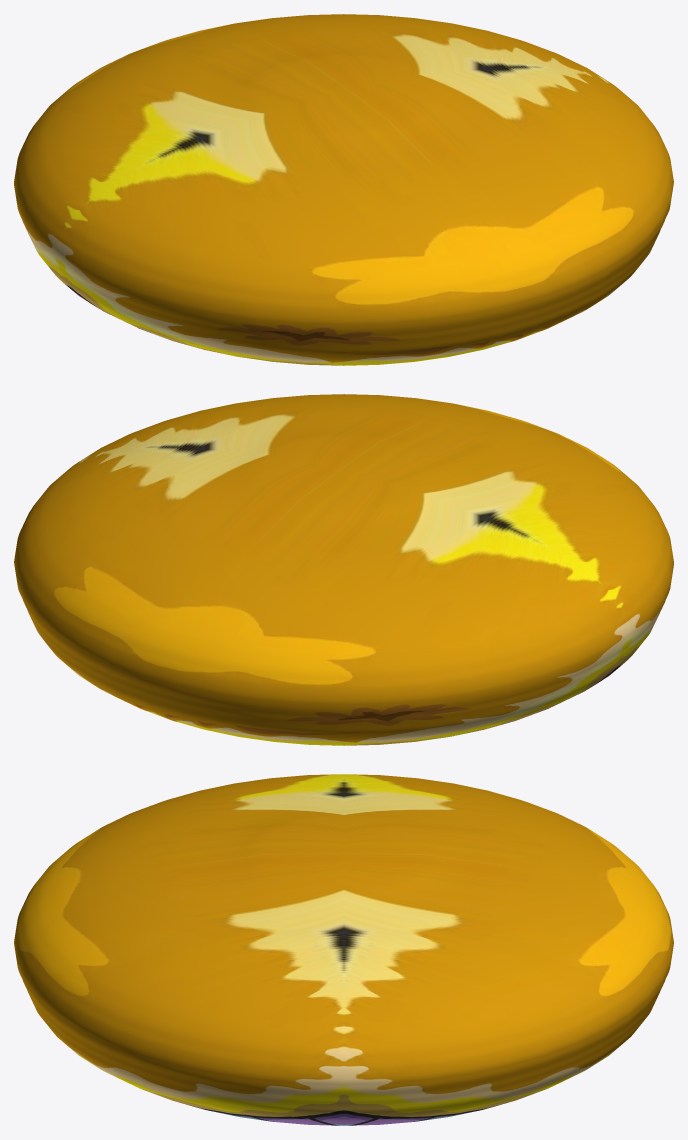
The model's file is golden_deck.glb.
The picture shows the model from 3 angles, top to bottom: view 1: azimuth 30°, elevation 25°; view 2: azimuth 150°, elevation 25°; view 3: azimuth 270°, elevation 25°; orthographic projection.
Visible parts, largest first — view 1: golden_deck; view 2: golden_deck; view 3: golden_deck.
Boxes of the visible parts, x1,y1,x2,y2 form: golden_deck: (14, 14, 673, 365); golden_deck: (14, 394, 673, 745); golden_deck: (14, 774, 673, 1125).
Size of the model in its own units: 0.9994 by 0.3295 by 0.9994.
1 material, 1 textured.
